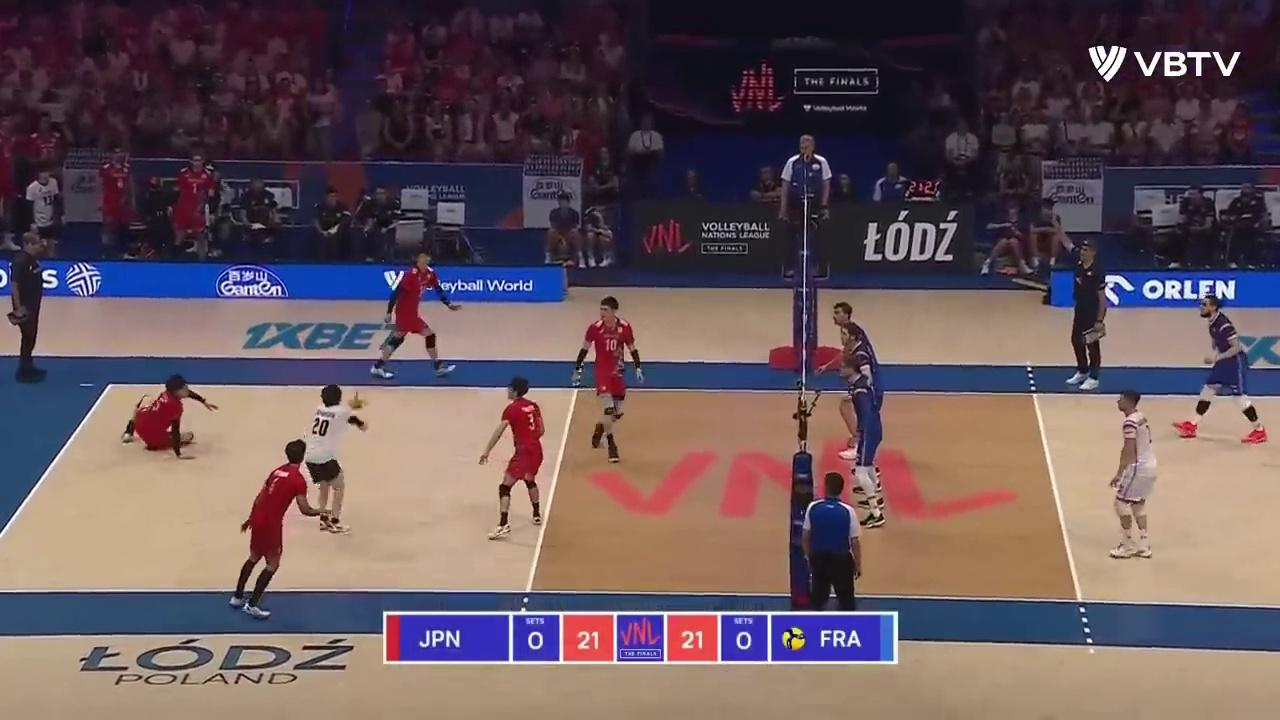ball: (350, 392, 366, 408)
